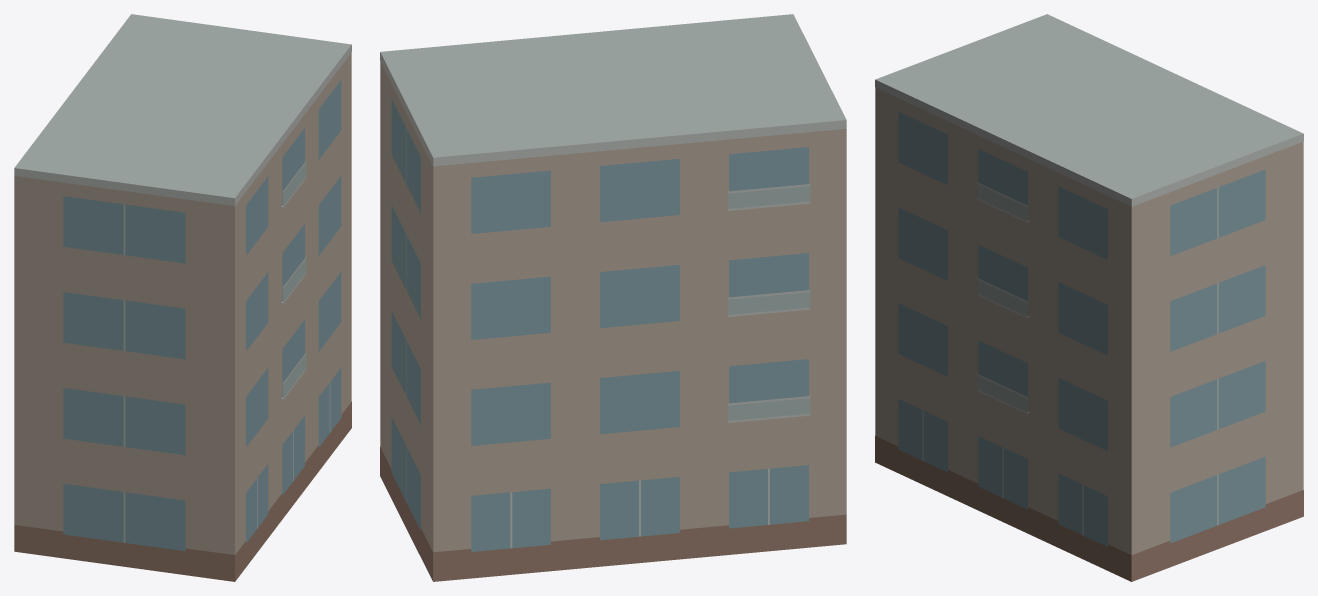
Rendered from survey-upis-32840762.glb.
3 renders of one model, left to right at view 1: azimuth 30°, elevation 25°; view 2: azimuth 150°, elevation 25°; view 3: azimuth 270°, elevation 25°, orthographic. The views are drawn at different scales.
Parts seen in each view (by area): view 1: survey-upis-32840762.tmp; view 2: survey-upis-32840762.tmp; view 3: survey-upis-32840762.tmp.
Boxes of the visible parts, left/top/right/bottom form: survey-upis-32840762.tmp: left=14, top=14, right=351, bottom=581; survey-upis-32840762.tmp: left=380, top=14, right=846, bottom=581; survey-upis-32840762.tmp: left=875, top=14, right=1303, bottom=581.
Bounding box in the file's own units: 12.34 × 11.9 × 12.08.
